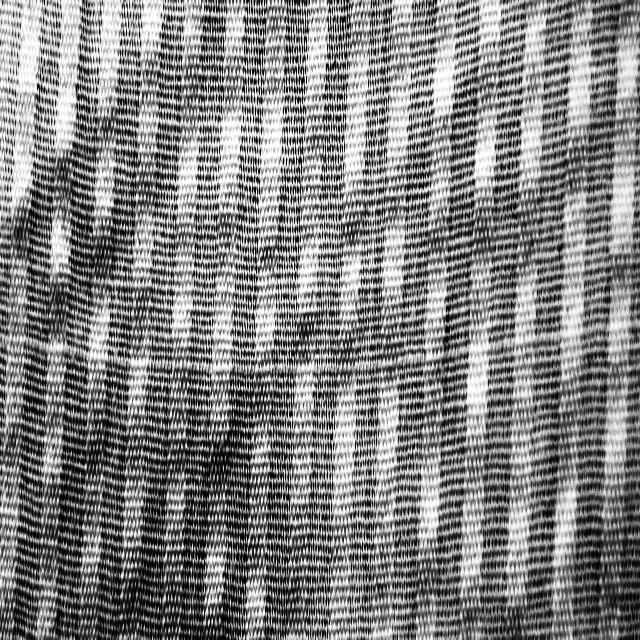Foreign_yarn: (6, 330, 640, 377)
